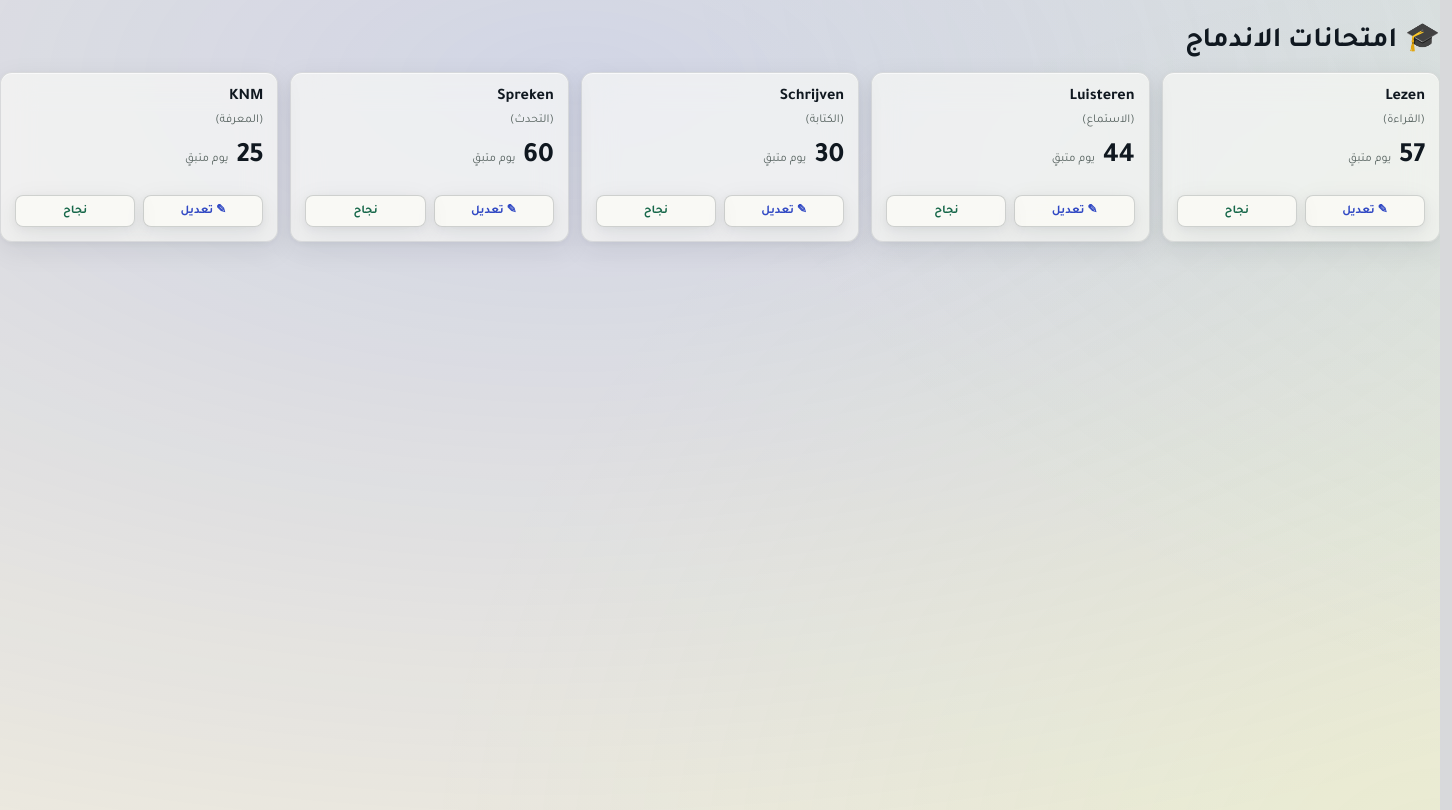
Scenario: ExamCountdowns › un-marking restores the counter
This screenshot has width=1452, height=810.
What coordinates should you click on to do the following:
click the button with aria-label "تحديد نجاح Lezen"
I would click on:
 (1237, 211)
Its box is [1177, 195, 1297, 227].
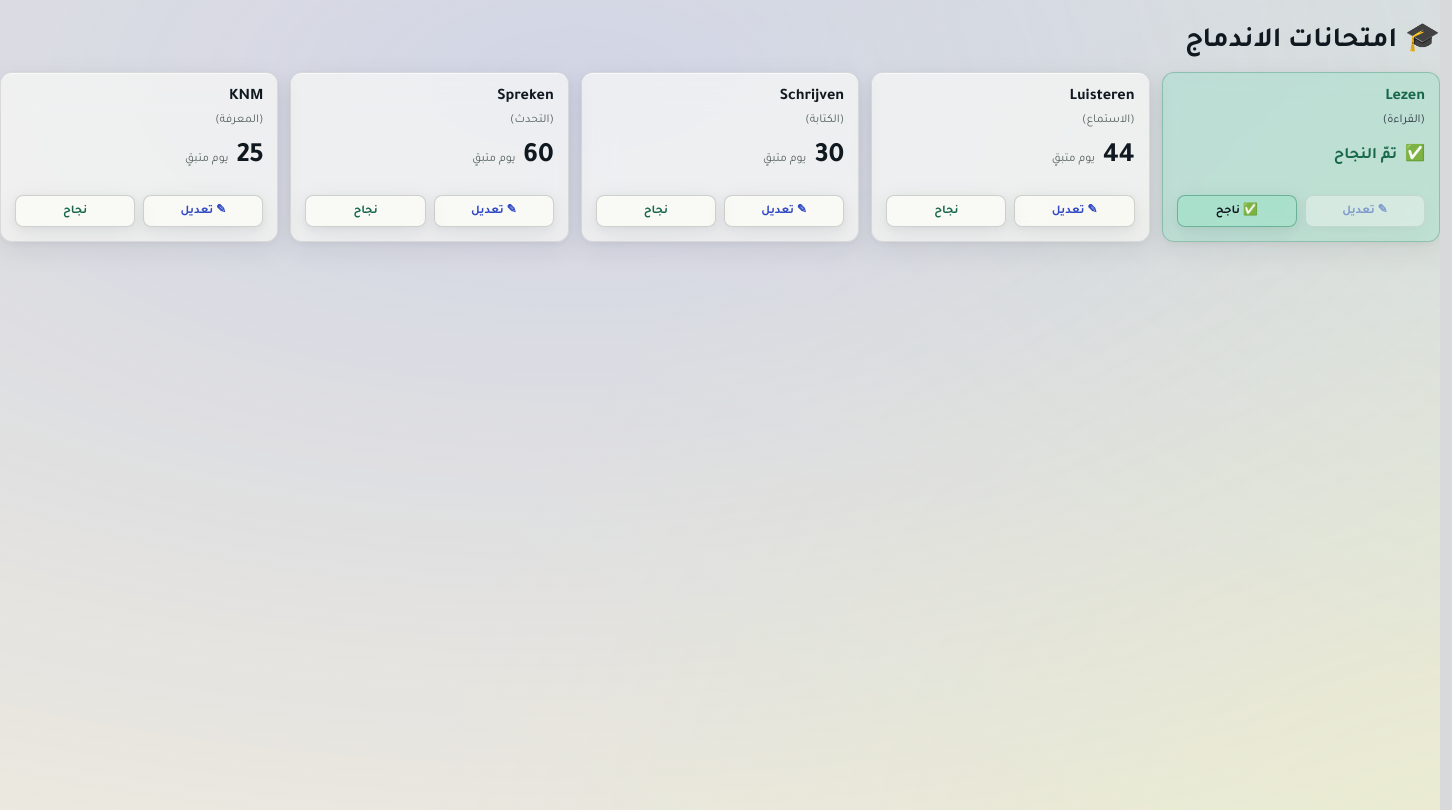
What coordinates should you click on to do the following:
click the button with aria-label "إلغاء نجاح Lezen"
I would click on:
 (1237, 211)
Its box is [1177, 195, 1297, 227].
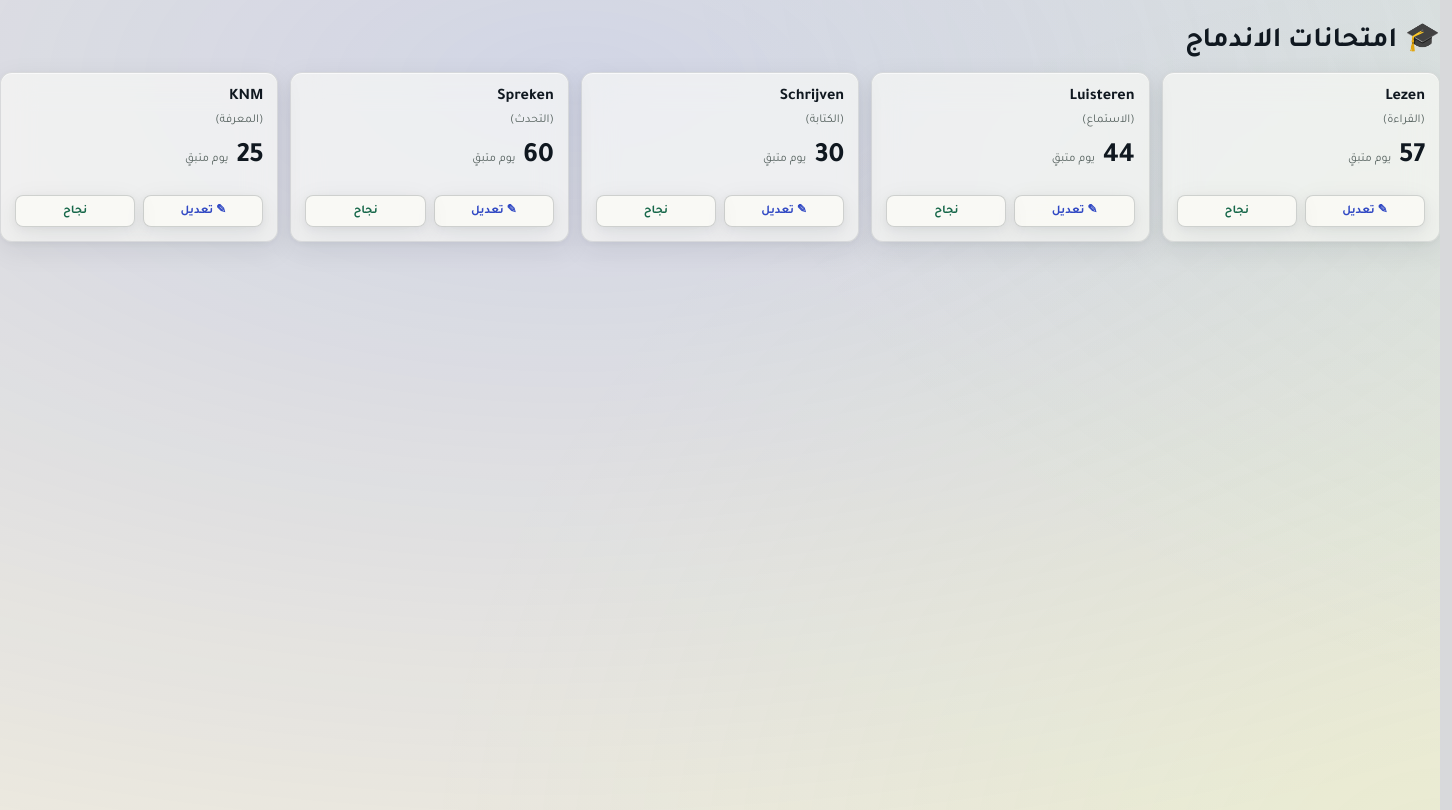
Expected: the text "57" is shown, [1399, 143, 1425, 171]
Expected: the button with aria-label "تعديل تاريخ امتحان Lezen" is enabled, [1305, 195, 1425, 227]
